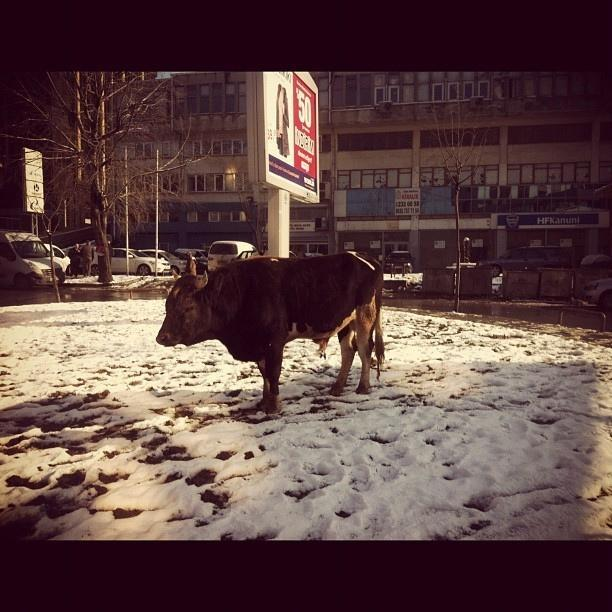car: (0, 231, 69, 289), (479, 247, 574, 277), (93, 248, 170, 276), (208, 241, 258, 271), (140, 248, 189, 274), (581, 278, 612, 308), (47, 244, 72, 276), (383, 250, 415, 274), (174, 248, 208, 264), (290, 248, 304, 259)
